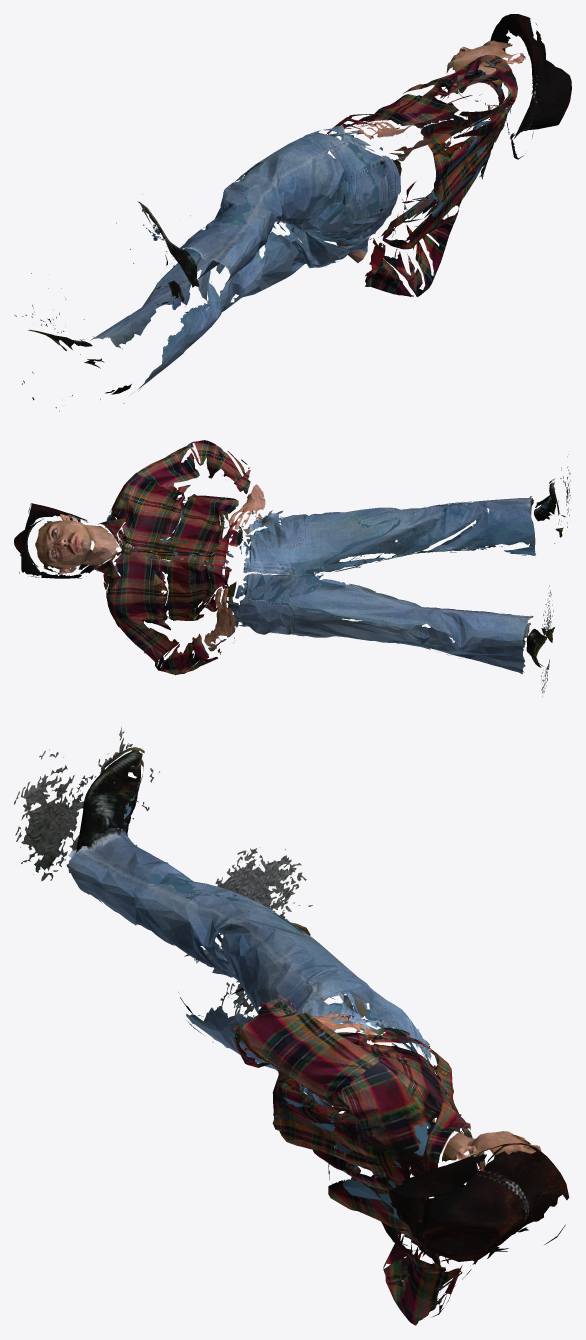
3 views of the same model, one above another, from view 1: azimuth 30°, elevation 25°; view 2: azimuth 150°, elevation 25°; view 3: azimuth 270°, elevation 25° (orthographic). The views are drawn at different scales.
Parts seen in each view (by area): view 1: Node; view 2: Node; view 3: Node.
Part boxes in pixels (x1,y1,x2,y2): Node: (14, 14, 571, 411); Node: (14, 440, 570, 696); Node: (14, 727, 569, 1325).
Size of the model in its own units: 1748 by 781 by 1099.
1 material, 1 textured.
